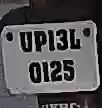0: (28, 60, 43, 86)
1: (41, 59, 50, 85), (47, 29, 56, 54)
2: (50, 59, 63, 84)
3: (54, 27, 70, 54)
5: (61, 58, 75, 84)
L: (68, 29, 83, 54)
P: (33, 29, 46, 55)
U: (19, 32, 34, 55)
